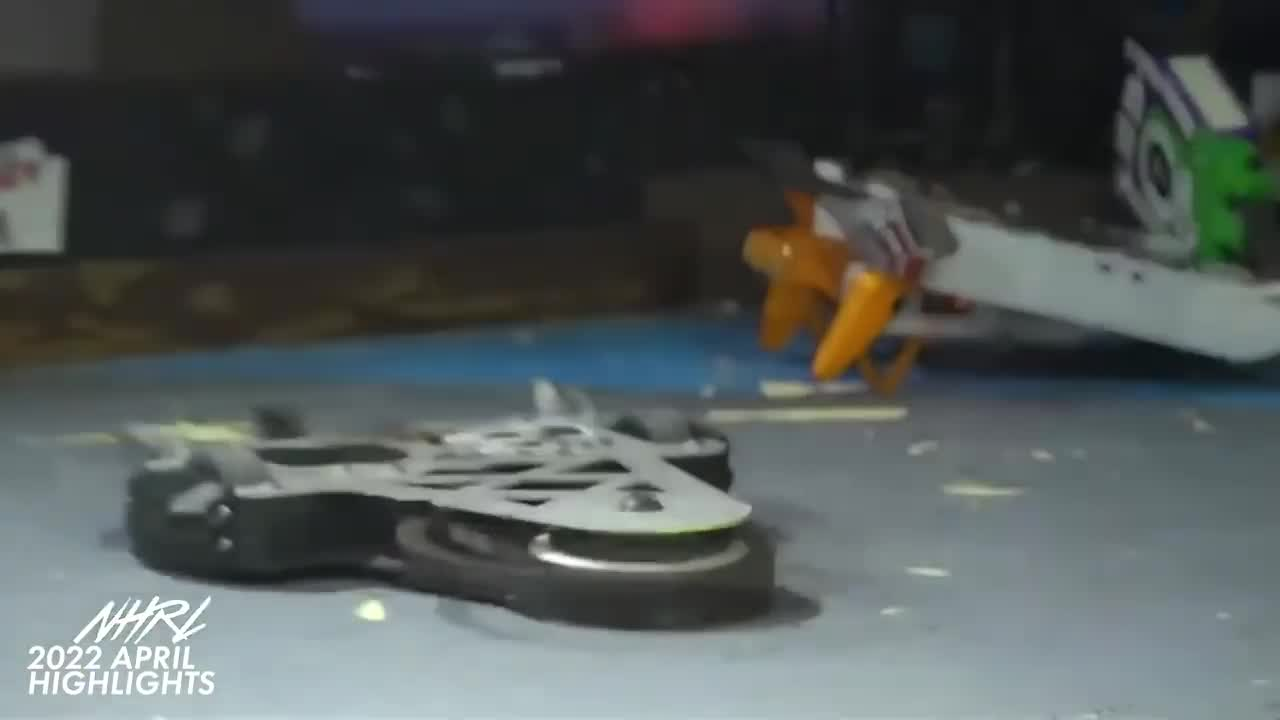combatbot: (123, 411, 777, 635), (738, 155, 1280, 401)
